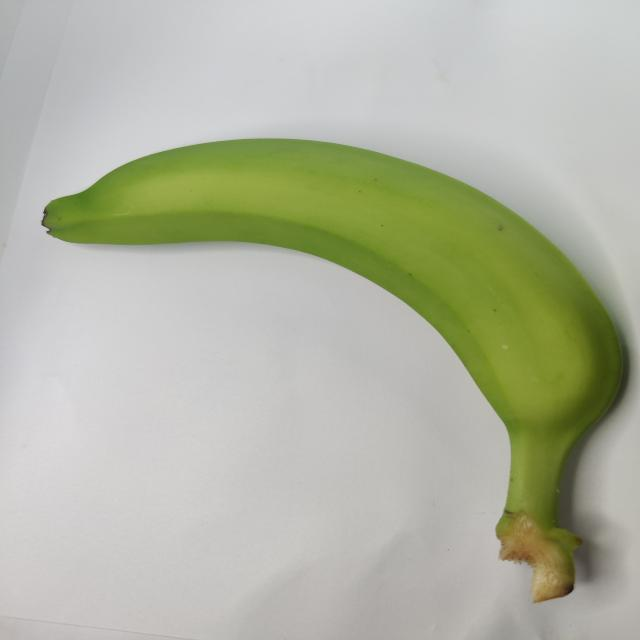raw: (25, 99, 640, 604)
